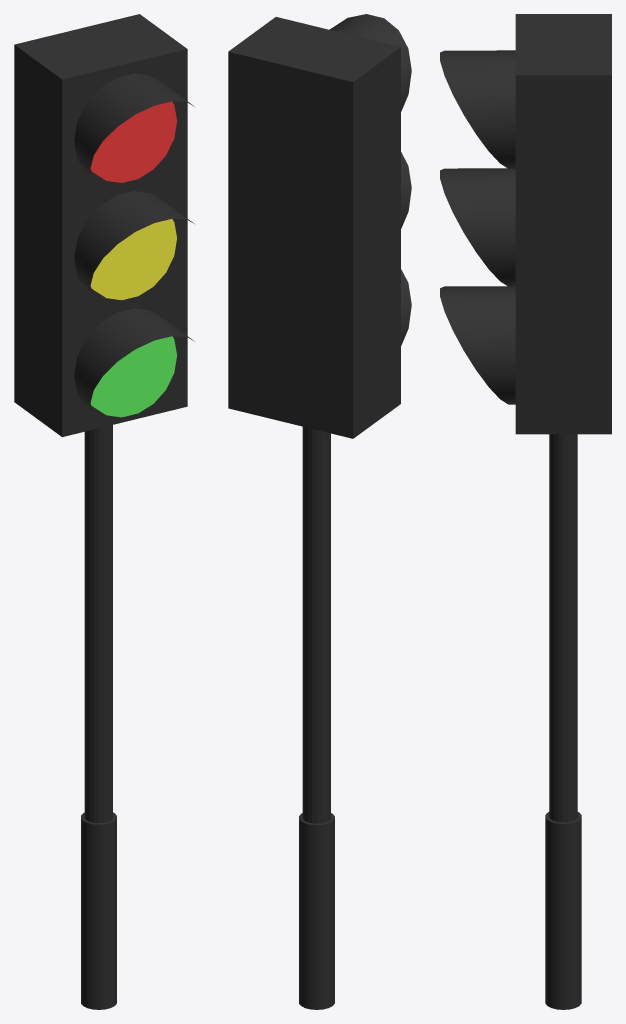
Rendered from traffic_light.glb.
3 views of the same model, side by side, from view 1: azimuth 30°, elevation 25°; view 2: azimuth 150°, elevation 25°; view 3: azimuth 270°, elevation 25° (orthographic).
Parts seen in each view (by area): view 1: Box20179, Cylinder001, Cylinder002, Cylinder004, Cylinder003, Cylinder007, Cylinder006, Cylinder005; view 2: Box20179, Cylinder001, Cylinder005, Cylinder006, Cylinder007; view 3: Box20179, Cylinder001, Cylinder005, Cylinder006, Cylinder007.
Boxes of the visible parts, <box> form: Box20179: <box>14,14,187,437</box>; Cylinder001: <box>81,425,116,1009</box>; Cylinder002: <box>90,101,176,182</box>; Cylinder004: <box>90,219,176,300</box>; Cylinder003: <box>90,336,176,417</box>; Cylinder007: <box>74,308,194,412</box>; Cylinder006: <box>74,191,194,295</box>; Cylinder005: <box>74,73,194,177</box>; Box20179: <box>228,17,400,438</box>; Cylinder001: <box>299,426,334,1009</box>; Cylinder005: <box>329,14,411,111</box>; Cylinder006: <box>401,152,411,228</box>; Cylinder007: <box>401,269,411,345</box>; Box20179: <box>515,14,611,434</box>; Cylinder001: <box>545,434,581,1009</box>; Cylinder005: <box>440,50,515,168</box>; Cylinder006: <box>440,168,515,286</box>; Cylinder007: <box>440,286,515,404</box>.
Bounding box in the file's own units: 206 × 1501 × 244.
